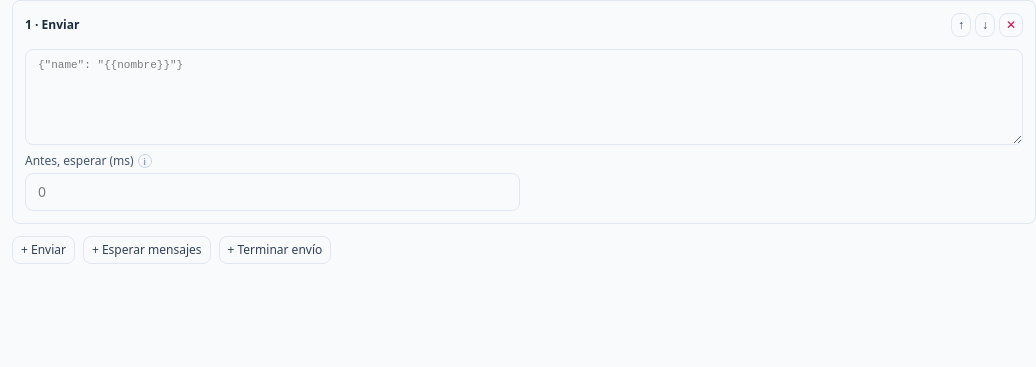
Scenario: los campos de cada protocolo › gRPC: el mensaje se escribe en JSON y el guion puede terminar el envío
Click the button "+ Terminar envío".
click(275, 250)  # box top-left (218, 236), bottom-right (331, 264)
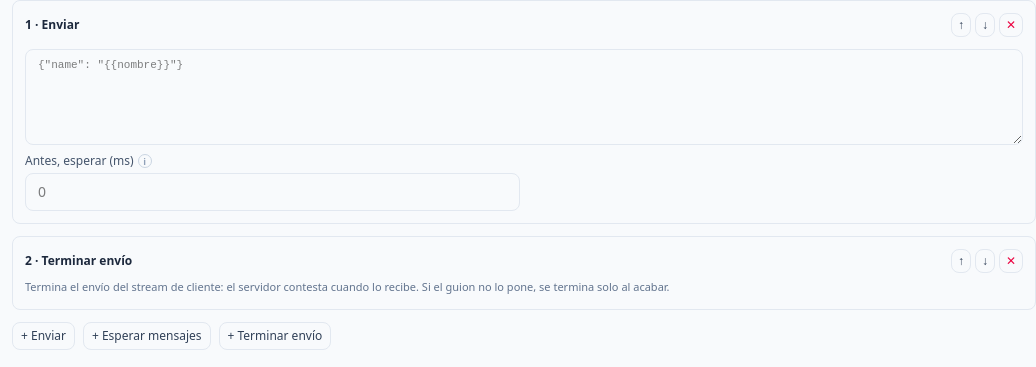
Check: the text "Termina el envío del stream de cliente" is shown, box top-left (25, 279), bottom-right (670, 294)
